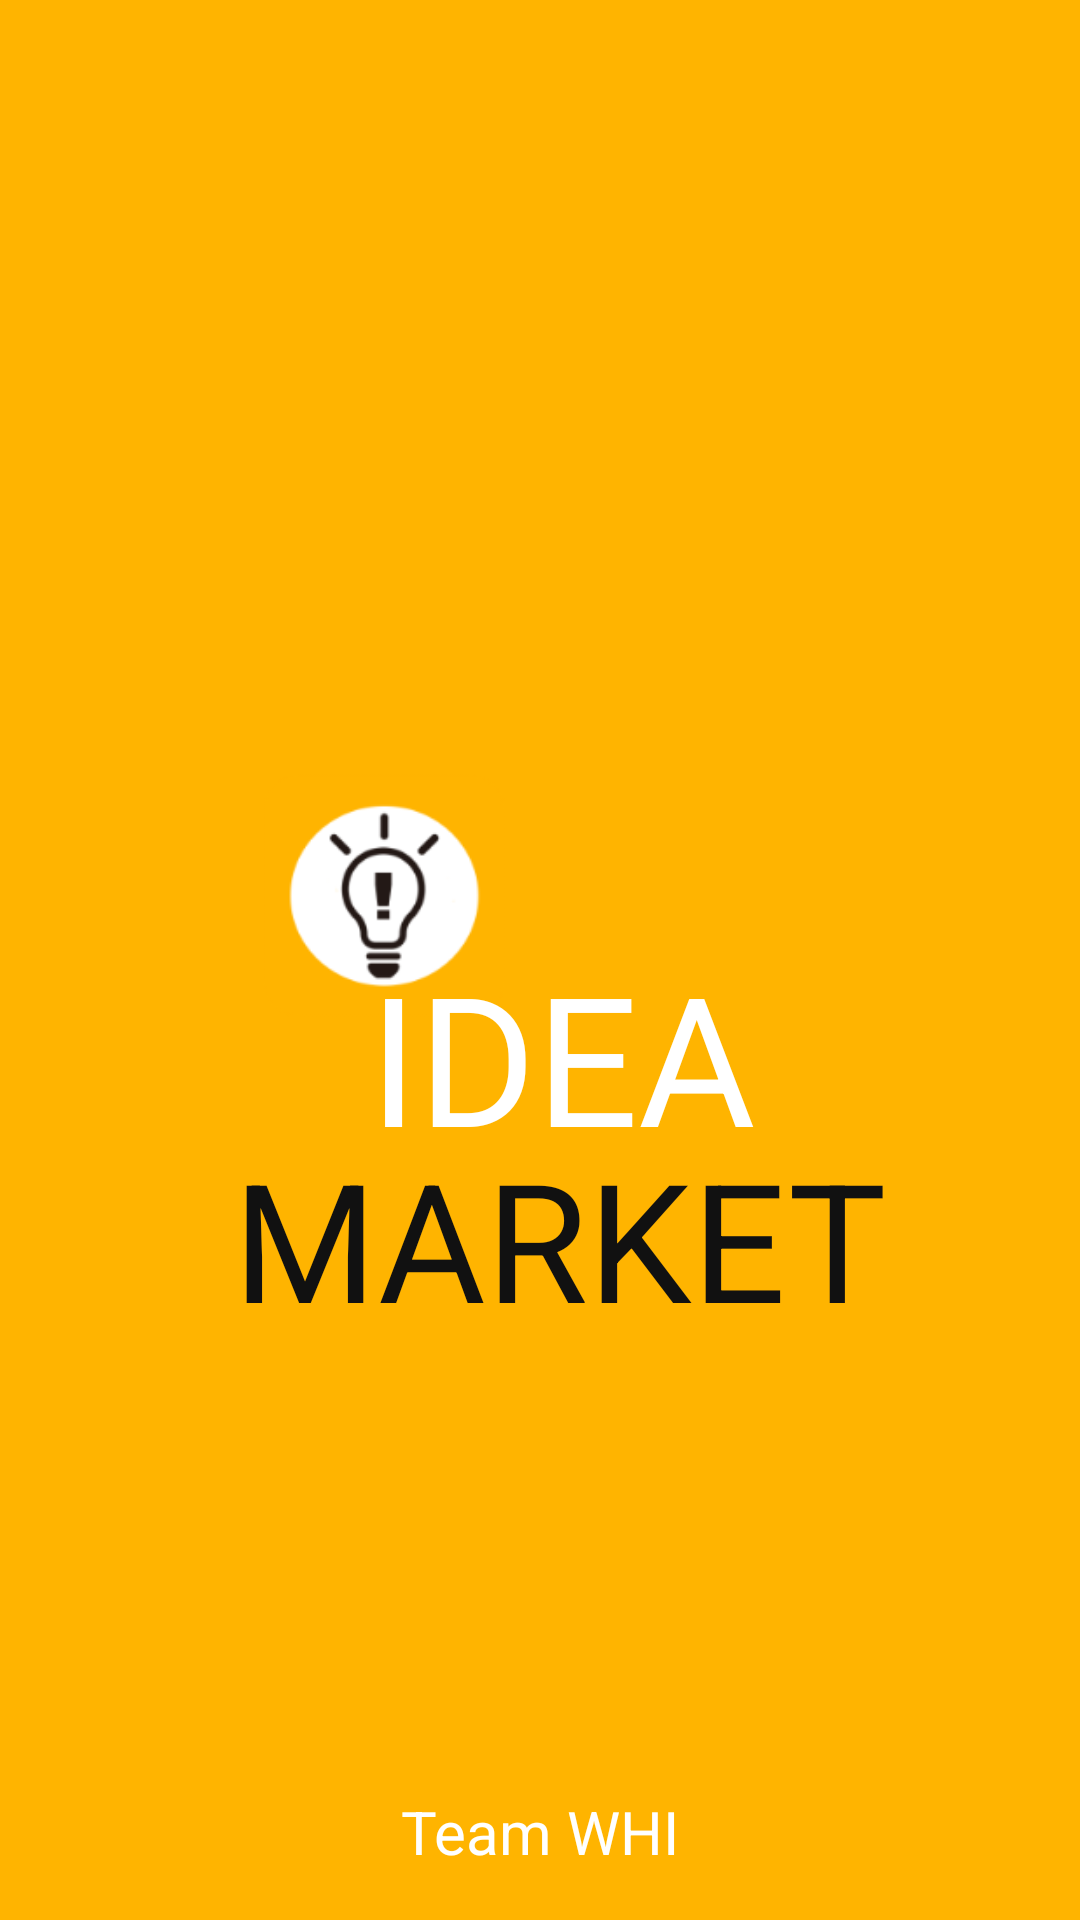

Point at icon controls on the screen. Image size 1080×1920, points as [x,y].
mainicon: [384,896]
